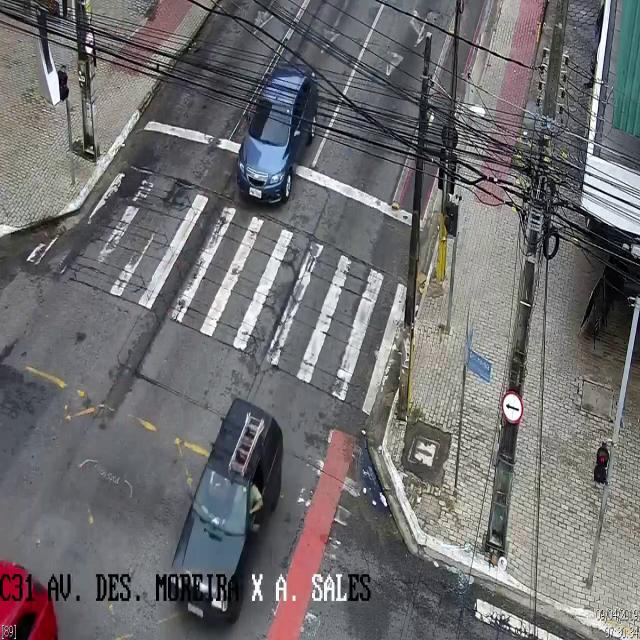Car: (172, 395, 284, 630), (235, 68, 318, 210)
